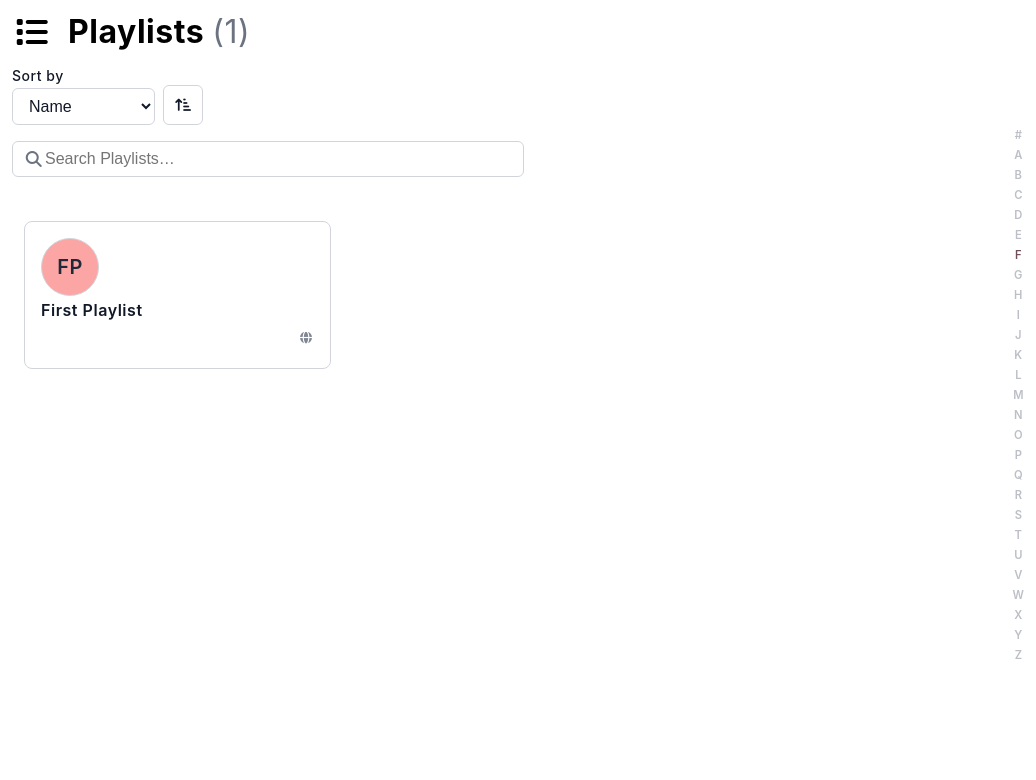
Test: PlaylistsView › debounces search and resets the list
The image size is (1036, 780).
Type "query" into the search field with placeholder "Search Playlists…".
click(268, 159); type("query")  # box x1=12 y1=141 x2=524 y2=177
Wait 300 ms
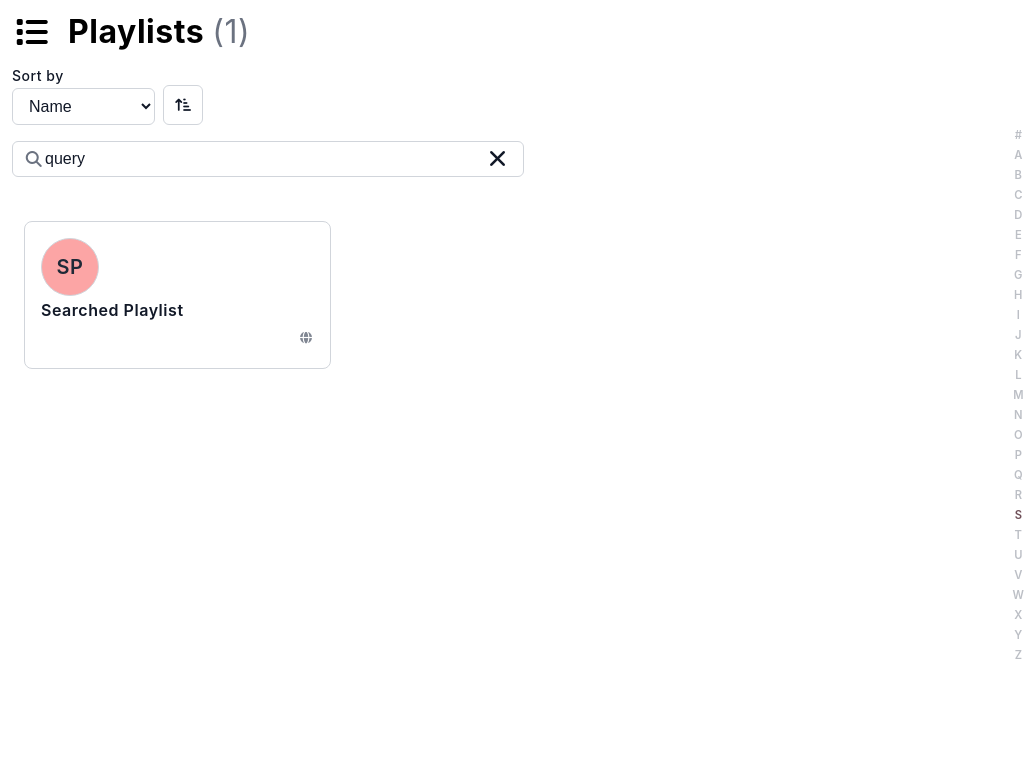
Now the text "Searched Playlist" is shown, box x1=41 y1=300 x2=184 y2=320
Now the text "First Playlist" is gone
